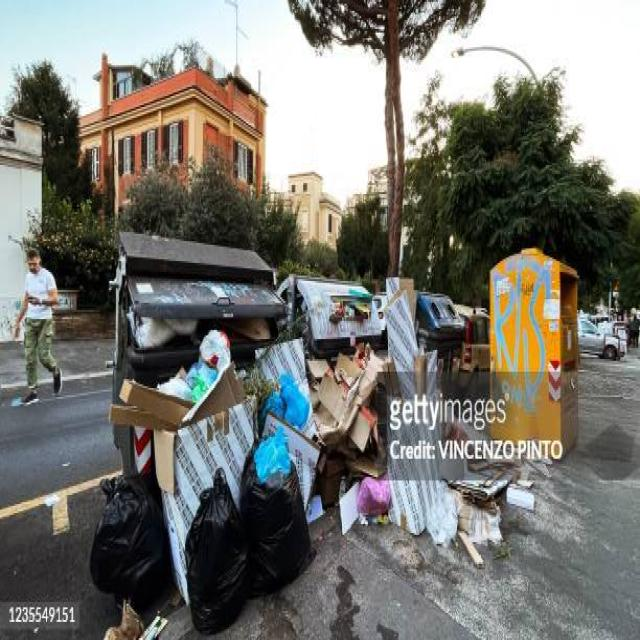cardboard: (157, 343, 510, 589)
trash: (141, 255, 484, 362)
